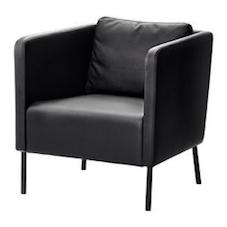chair: (3, 4, 219, 198)
